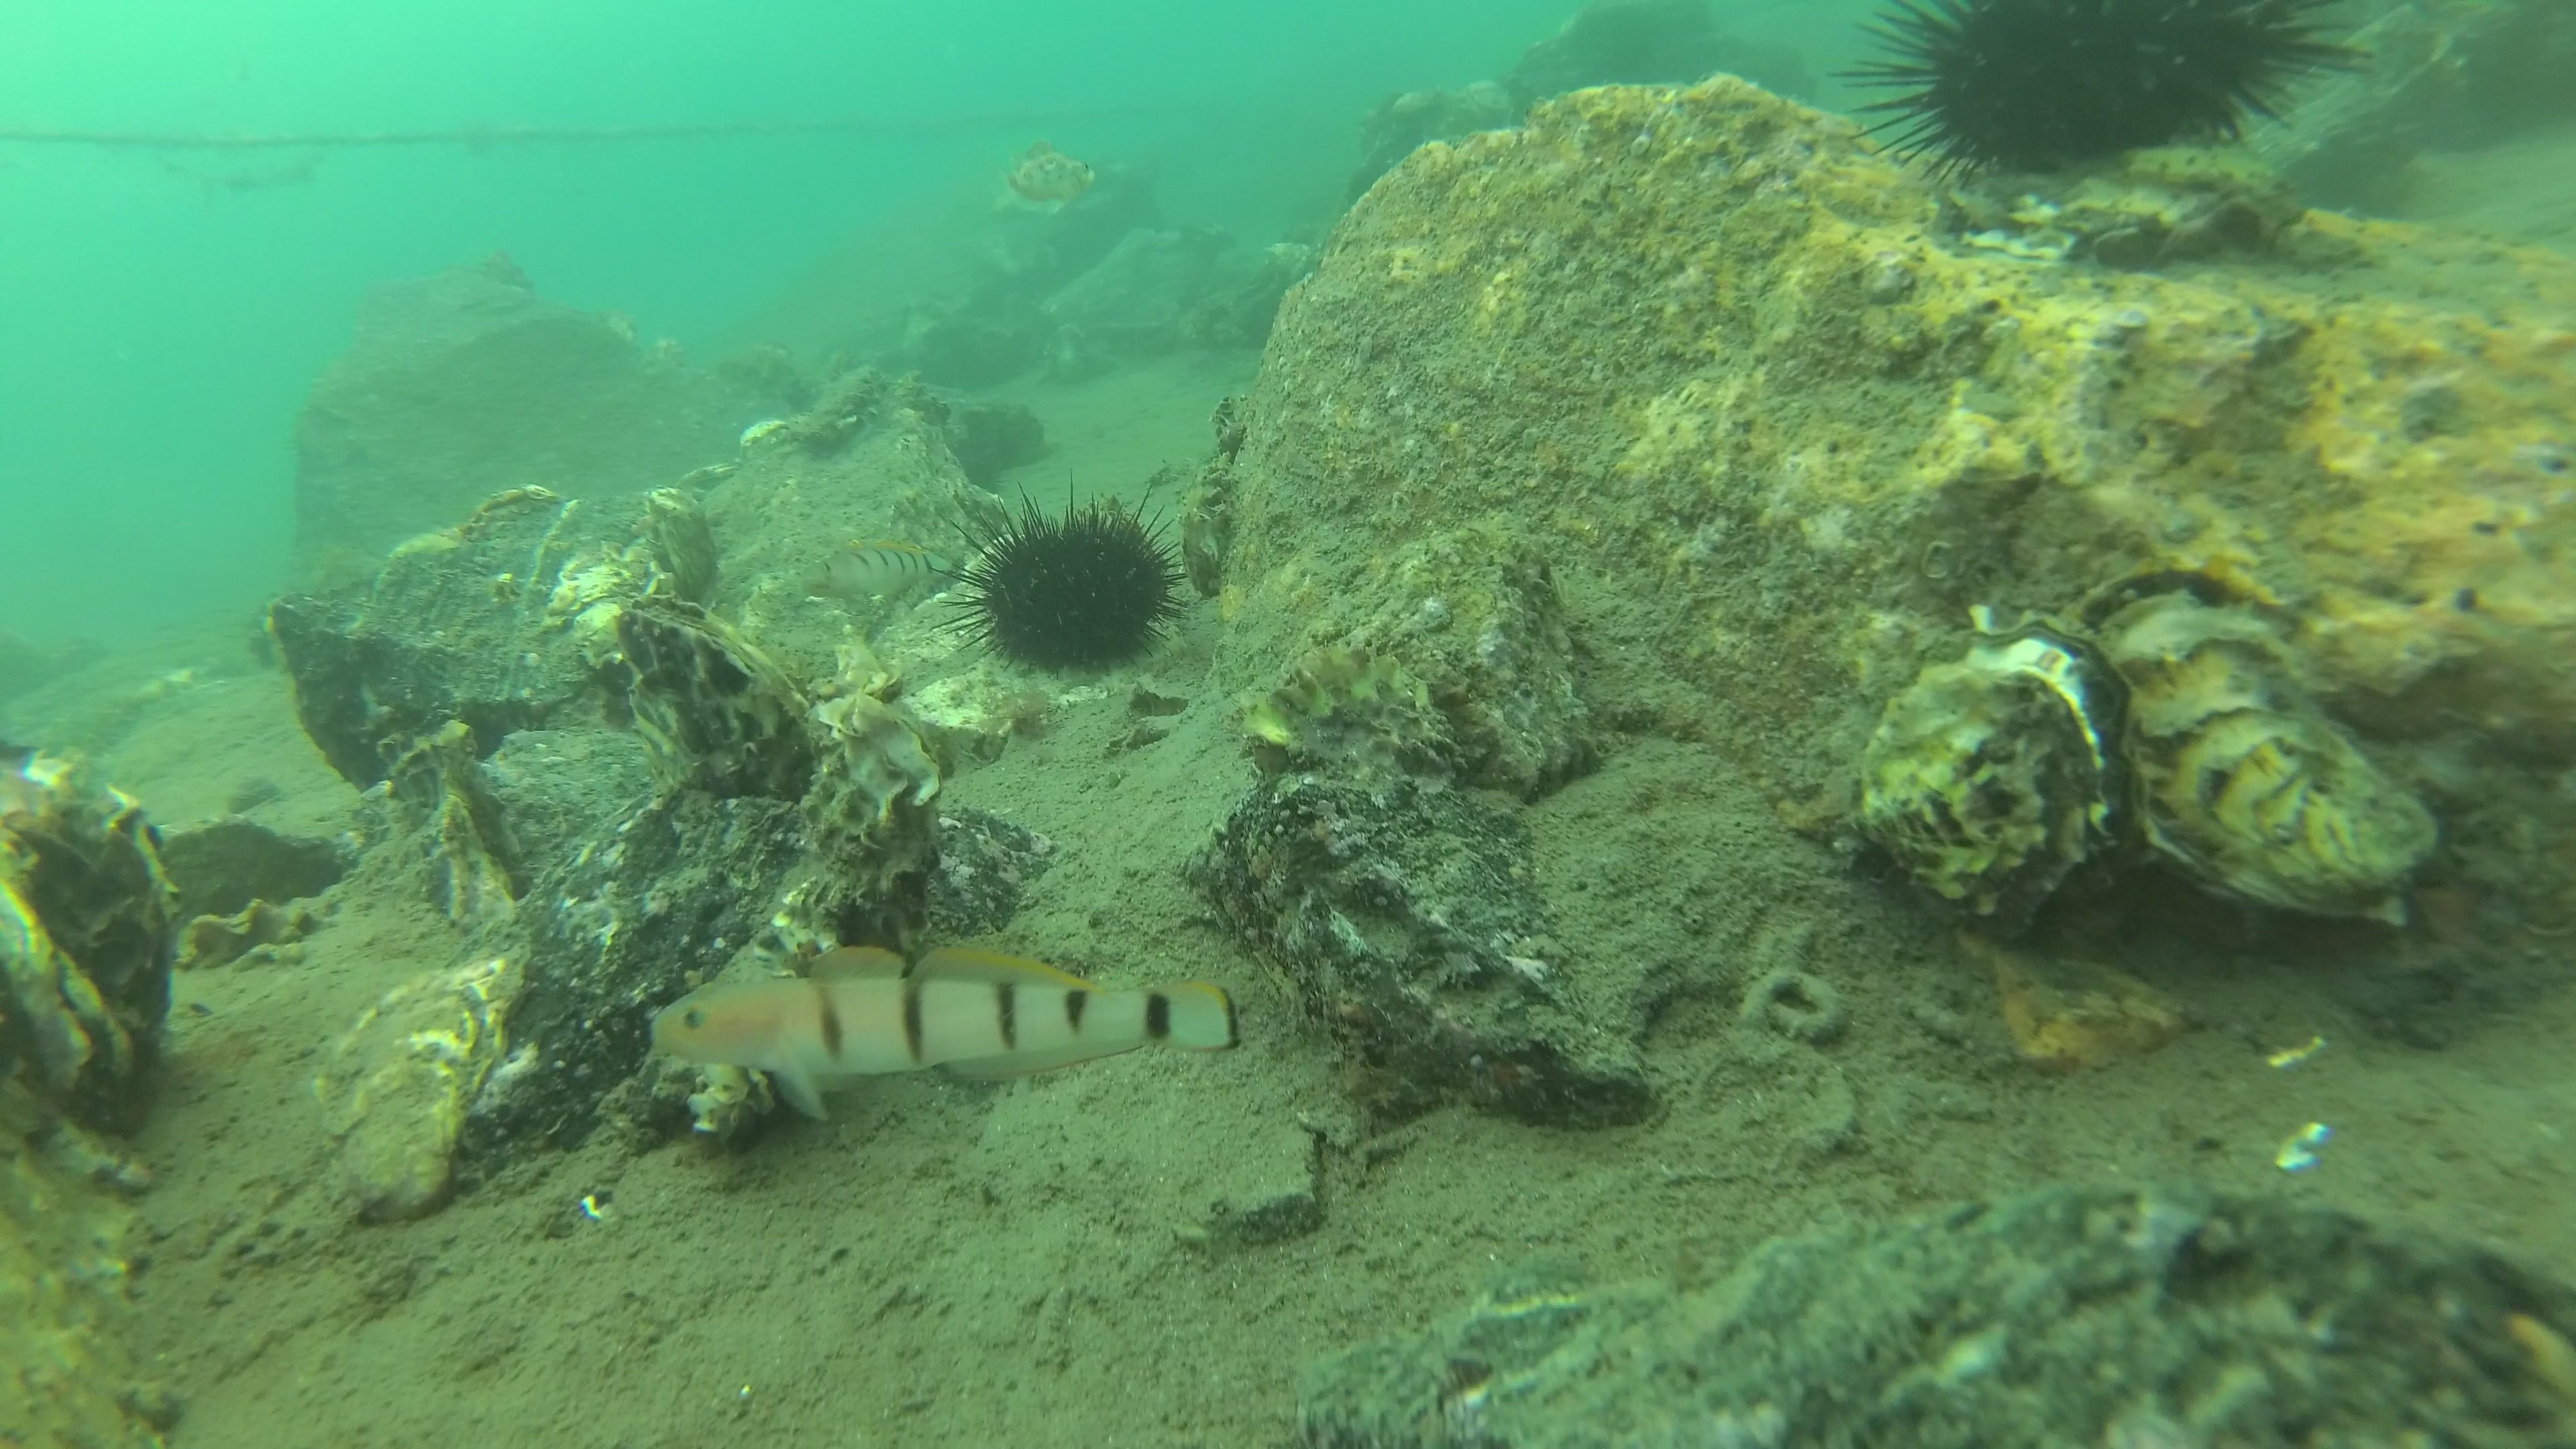echinus: (1822, 0, 2380, 195), (936, 469, 1194, 679)
